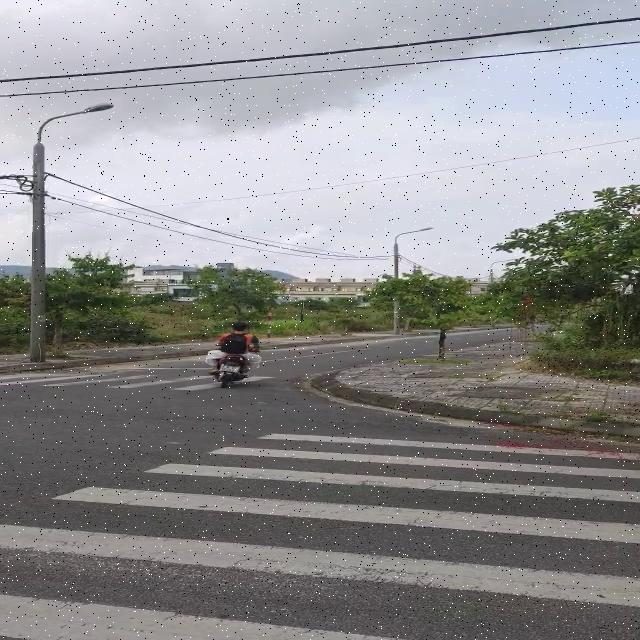no_helmet: (231, 318, 248, 337)
